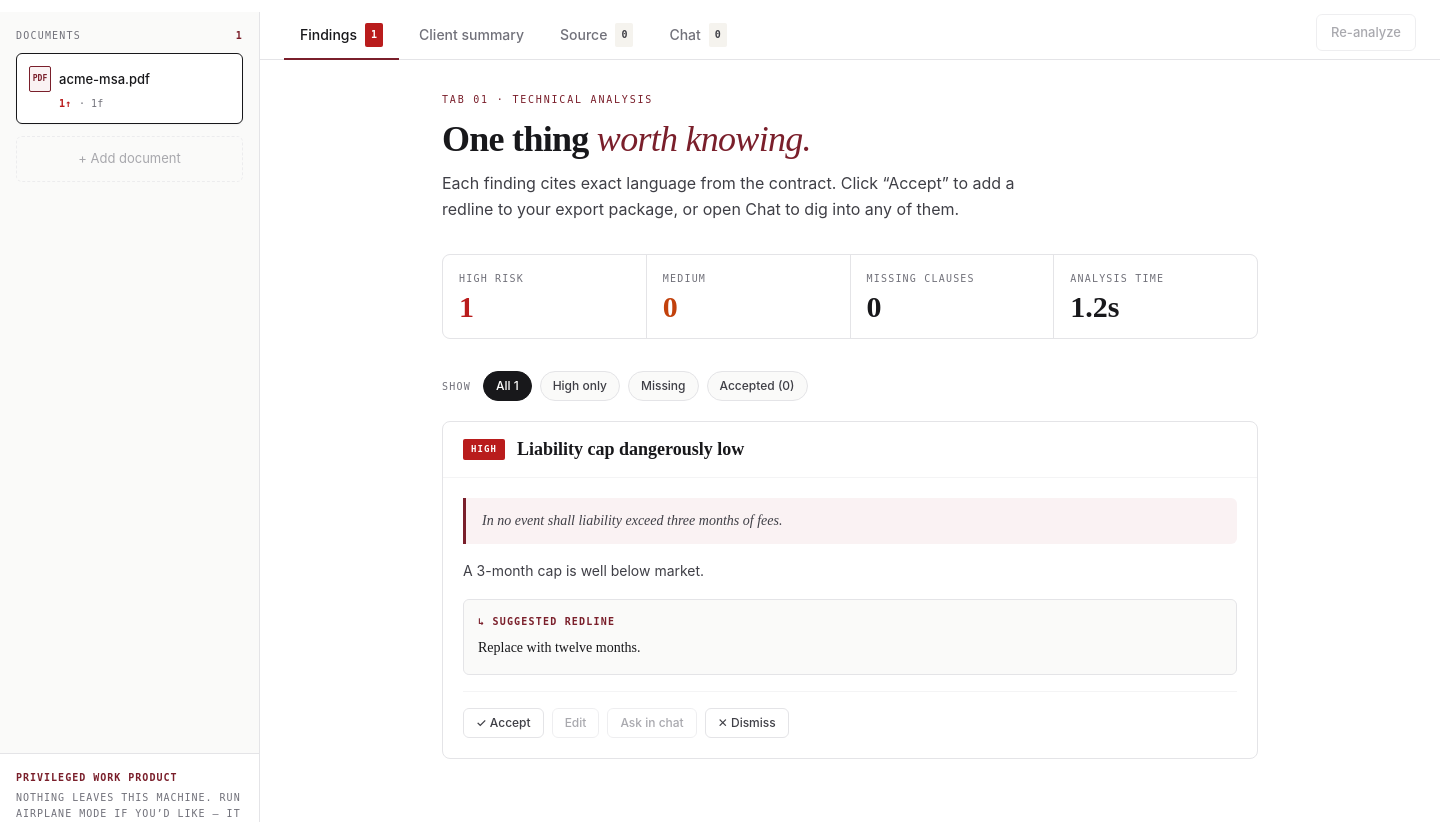
Test: <Review /> › clicking Client summary switches to the live Sprint 3 ClientSummary tab
This screenshot has width=1440, height=822.
Click the button with test id "tab-summary" at (472, 36), box [403,12,540,60]
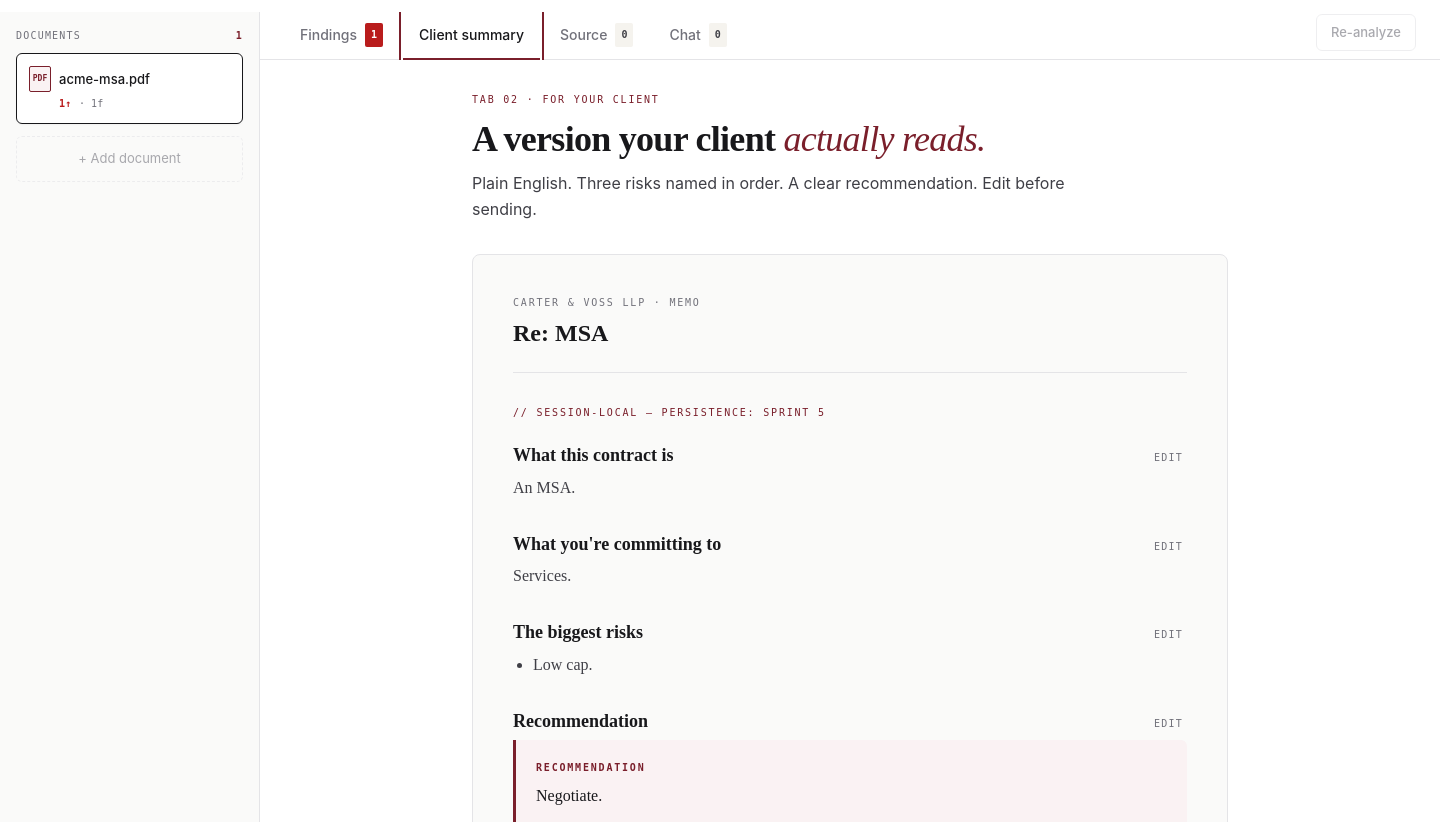
Now the text "actually reads." is shown, box [784,119,985,159]
Now the heading "What this contract is" is shown, box [513,444,674,466]
